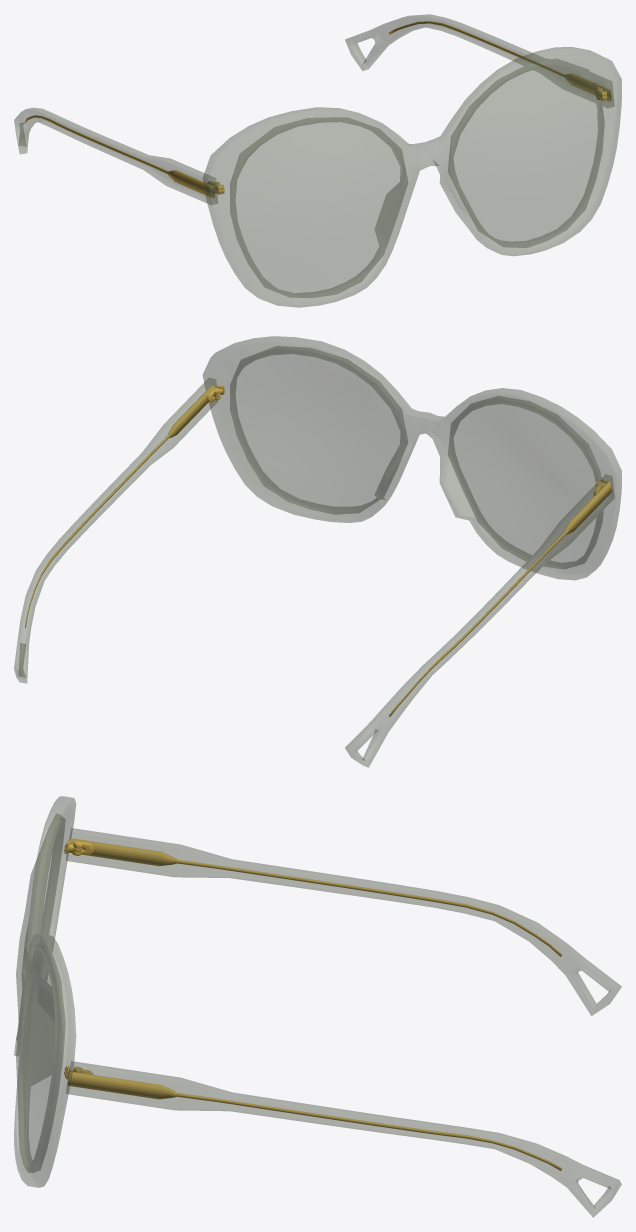
File: pilot-cift-kopru-altin-metal.glb
The picture shows the model from 3 angles, top to bottom: view 1: azimuth 30°, elevation 25°; view 2: azimuth 150°, elevation 25°; view 3: azimuth 270°, elevation 25°; orthographic projection. The views are drawn at different scales.
Visible parts, largest first — view 1: OPTIK_PRODUCT_292; view 2: OPTIK_PRODUCT_292; view 3: OPTIK_PRODUCT_292.
Boxes of the visible parts, bbox=[...] form: OPTIK_PRODUCT_292: bbox=[14, 14, 621, 307]; OPTIK_PRODUCT_292: bbox=[14, 336, 621, 767]; OPTIK_PRODUCT_292: bbox=[14, 796, 621, 1217].
Bounding box in the file's own units: 0.1553 × 0.0692 × 0.1637.
